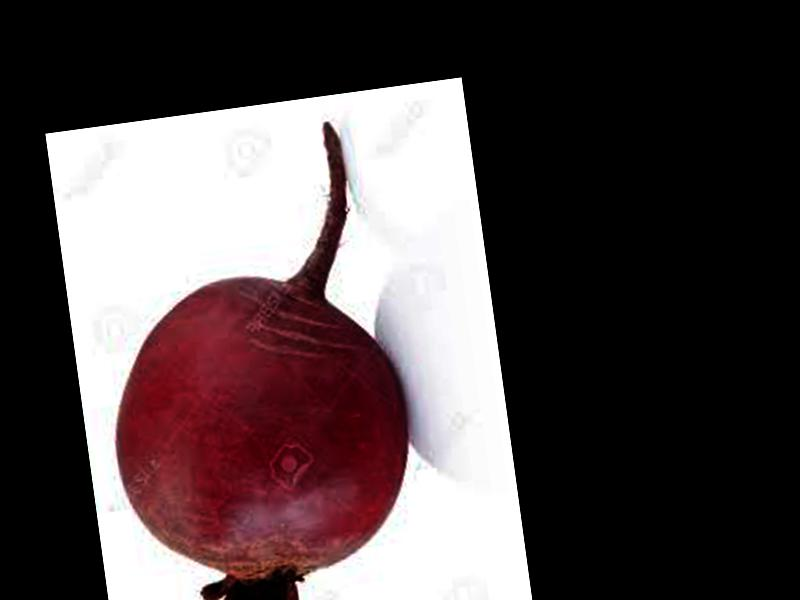Beet: (78, 117, 431, 600)
